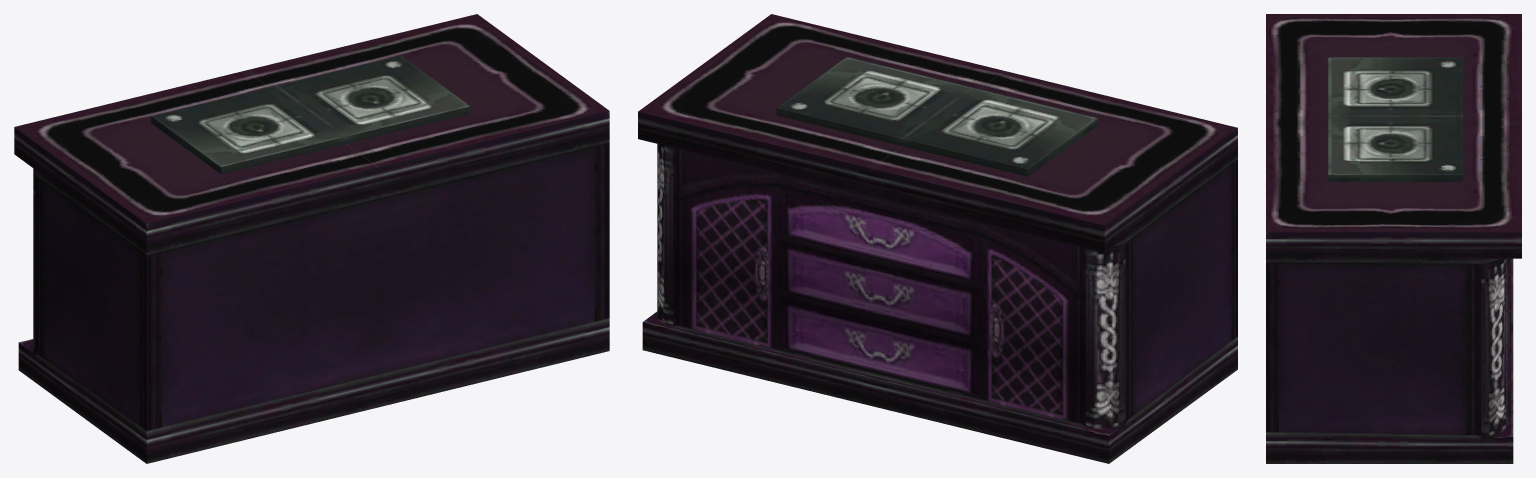
Rendered from furni_0201224_02.FBX.
The picture shows the model from 3 angles, left to right: view 1: azimuth 30°, elevation 25°; view 2: azimuth 150°, elevation 25°; view 3: azimuth 270°, elevation 25°; orthographic projection. The views are drawn at different scales.
Parts seen in each view (by area): view 1: furni_0201224_02; view 2: furni_0201224_02; view 3: furni_0201224_02.
Part boxes in pixels (x1,y1,x2,y2): furni_0201224_02: (14,14,609,463); furni_0201224_02: (638,14,1237,463); furni_0201224_02: (1266,14,1521,463).
Bounding box in the file's own units: 161 × 82.34 × 80.
